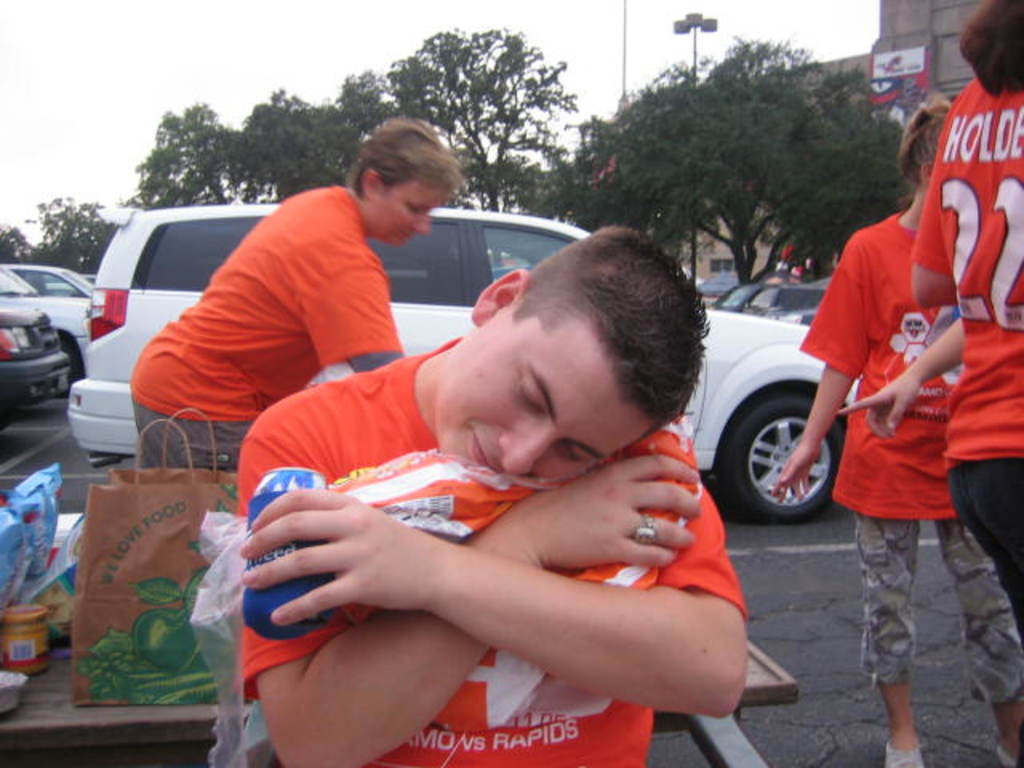Human-face: (437, 318, 656, 491), (365, 178, 450, 248)
